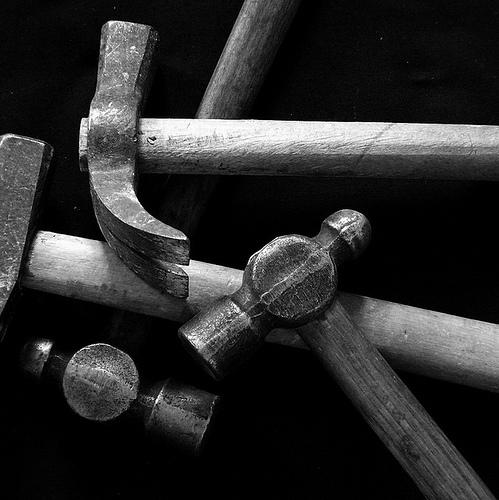hammer: (76, 15, 498, 299), (173, 203, 498, 499), (16, 328, 221, 456)
